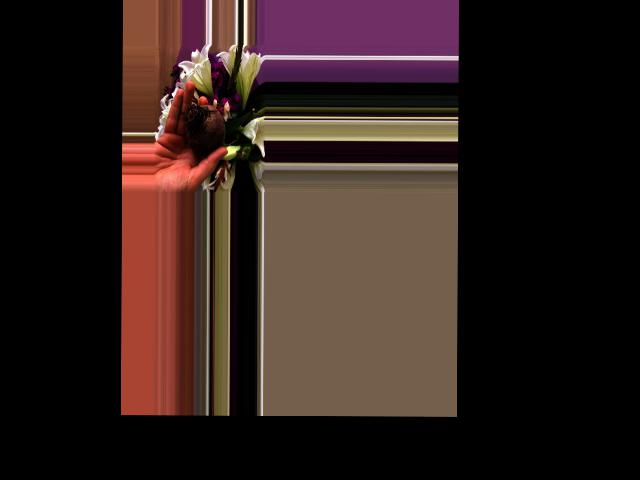beet: (184, 104, 238, 156)
